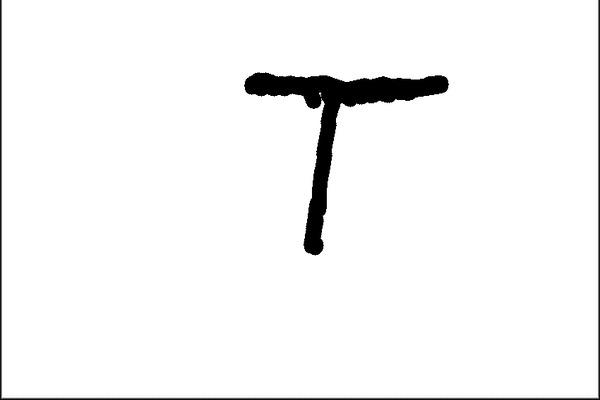T: (241, 60, 456, 265)
